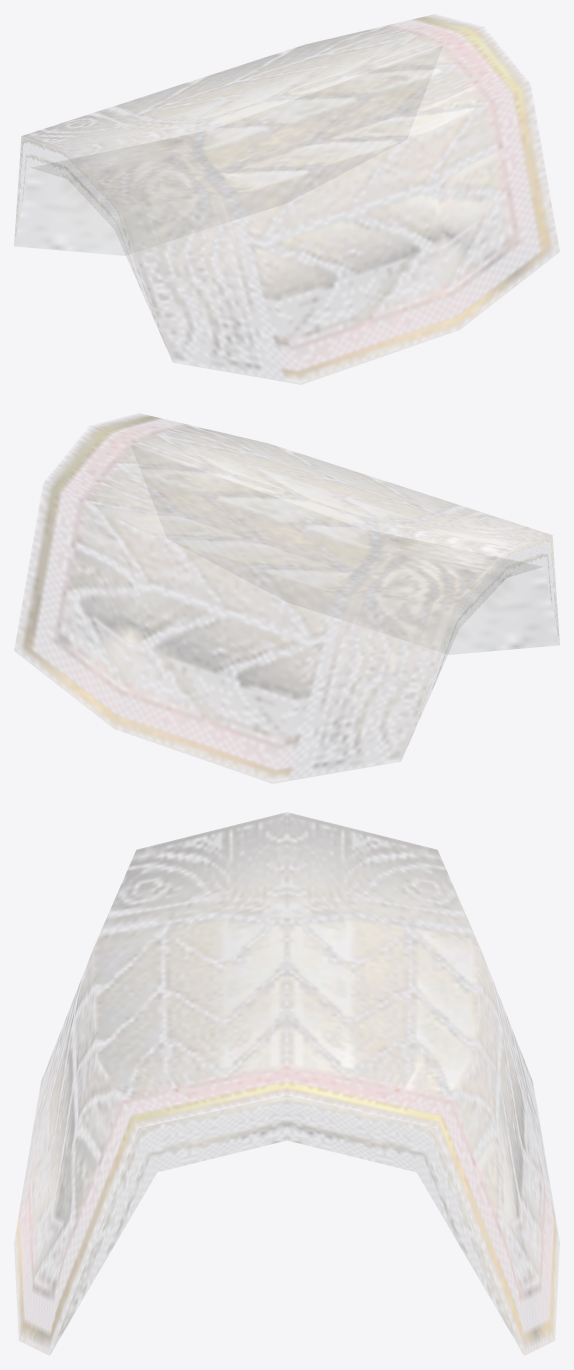
Rendered from light_03_sa.glb.
The picture shows the model from 3 angles, top to bottom: view 1: azimuth 30°, elevation 25°; view 2: azimuth 150°, elevation 25°; view 3: azimuth 270°, elevation 25°; orthographic projection. The views are drawn at different scales.
Visible parts, largest first — view 1: light_03_sa; view 2: light_03_sa; view 3: light_03_sa.
Part boxes in pixels (bbox=[...]): light_03_sa: bbox=[14, 16, 552, 378]; light_03_sa: bbox=[21, 415, 559, 777]; light_03_sa: bbox=[16, 813, 557, 1352].
Size of the model in its own units: 0.2433 by 0.1251 by 0.1756.
1 material, 1 textured.
